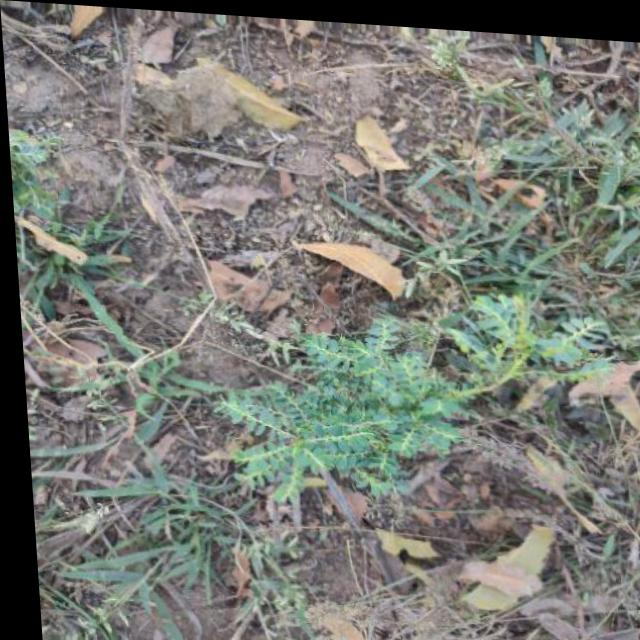weed: (220, 312, 476, 516), (430, 222, 621, 425)
